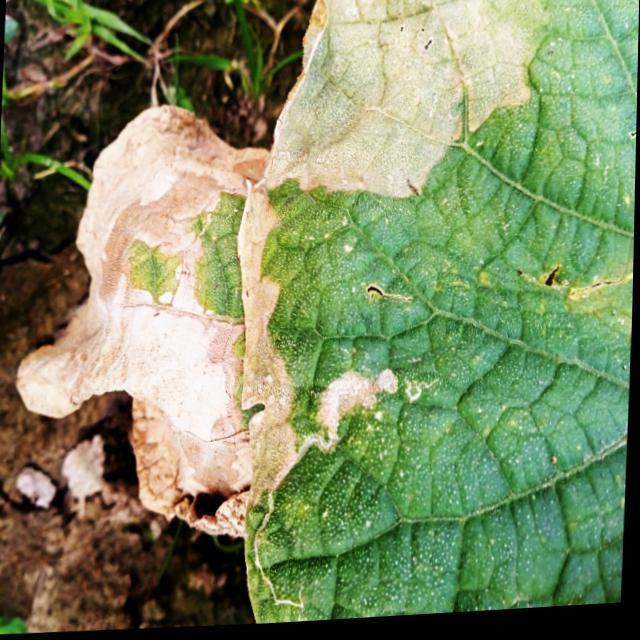Gummy-Stem-Blight: (235, 0, 546, 509), (11, 98, 270, 539)
